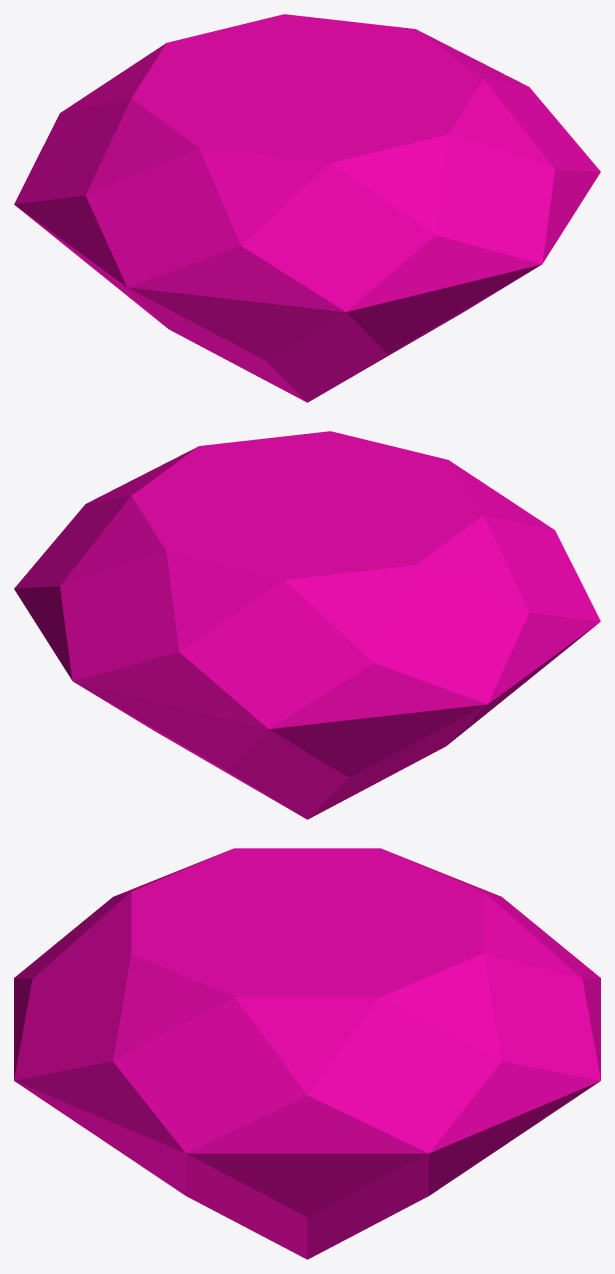
The model's file is Diamond.fbx.
3 renders of one model, top to bottom at view 1: azimuth 30°, elevation 25°; view 2: azimuth 150°, elevation 25°; view 3: azimuth 270°, elevation 25°, orthographic. The views are drawn at different scales.
Visible parts, largest first — view 1: Gem; view 2: Gem; view 3: Gem.
Boxes of the visible parts, x1=… form: Gem: x1=14, y1=14, x2=600, y2=402; Gem: x1=14, y1=431, x2=600, y2=819; Gem: x1=14, y1=848, x2=600, y2=1259.
Size of the model in its own units: 1.85 by 1.17 by 1.85.
